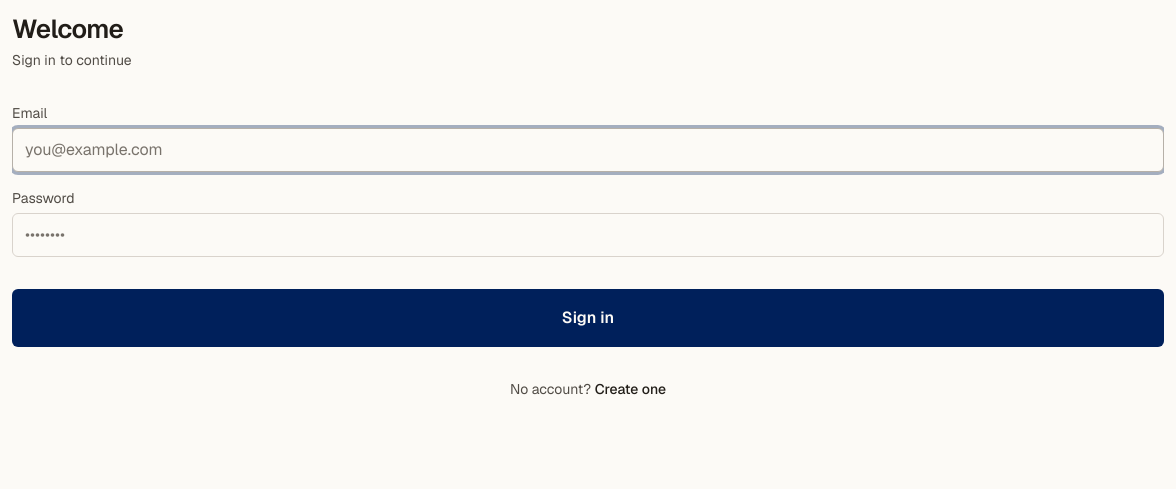
LoginPage › shows mapped error on login failure
The width and height of the screenshot is (1176, 489).
Type "a@b.c" into the field labelled "Email".
click(588, 150); type("a@b.c")  # box [12,128,1164,172]
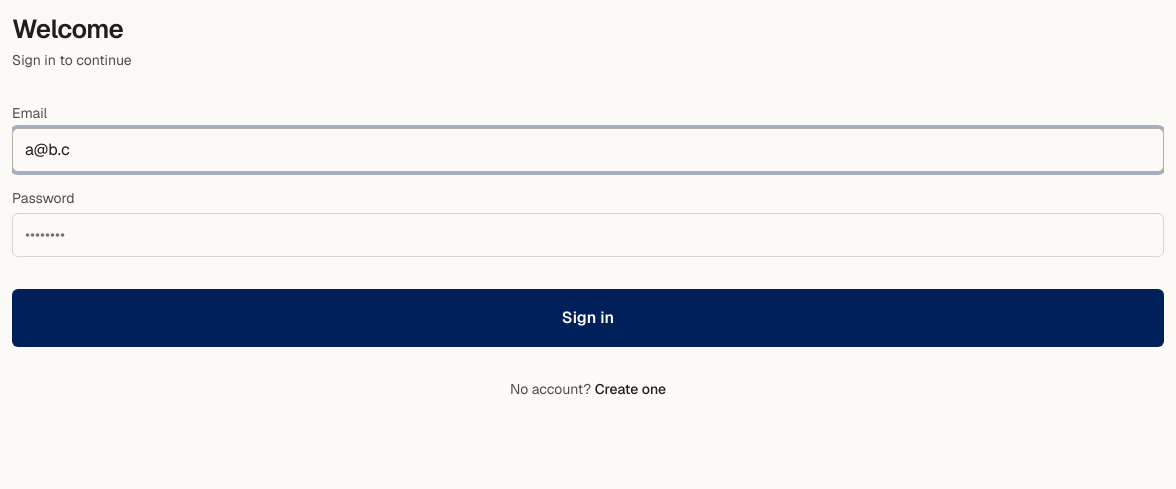
Type "pw" into the password field labelled "Password".
click(588, 235); type("pw")  # box [12,213,1164,257]
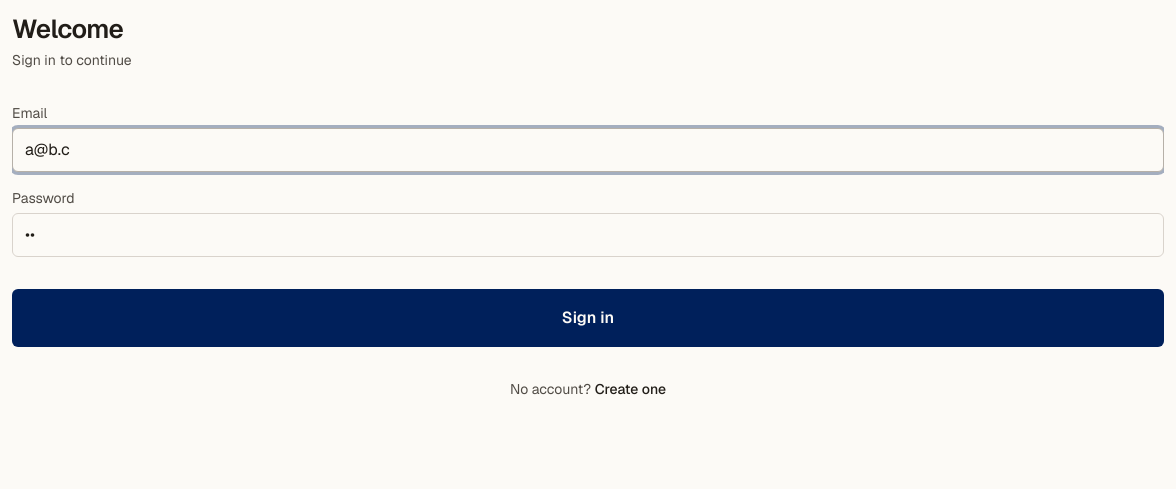
Click the button "Sign in".
click(588, 318)  # box [12,289,1164,347]
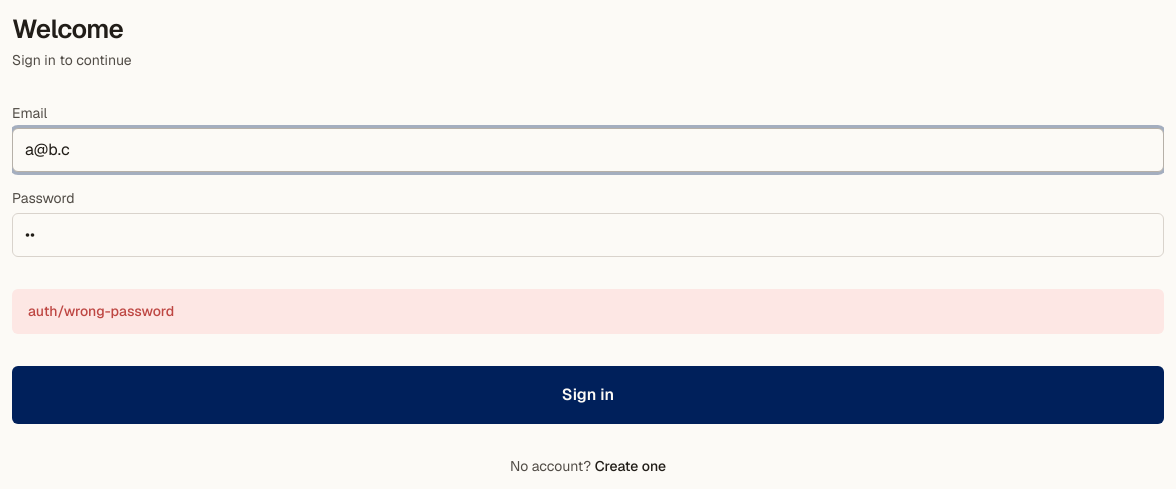
Check: the message "auth/wrong-password" is shown, box [12,289,1164,334]
